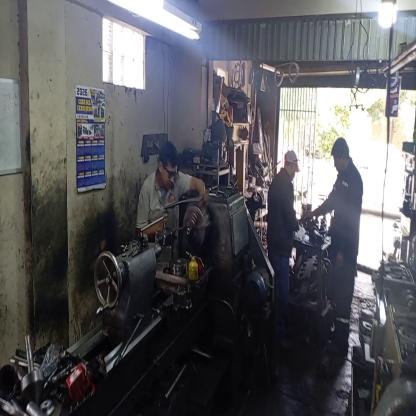lentes: (162, 159, 178, 181)
